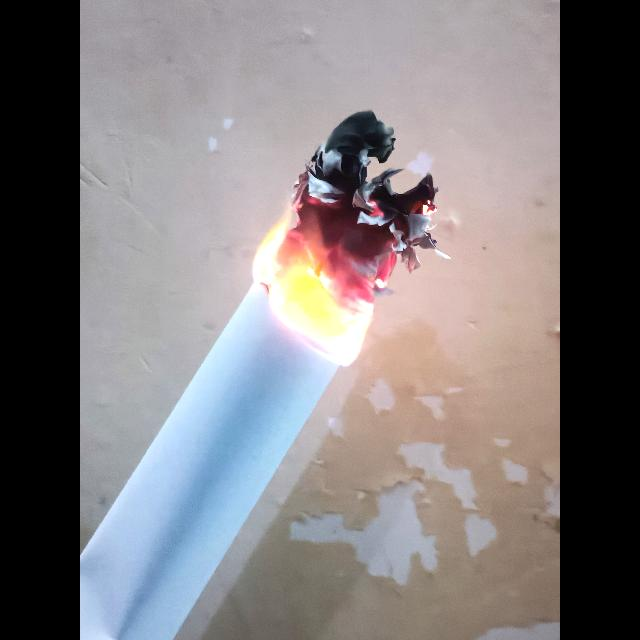fire: (255, 110, 437, 365)
